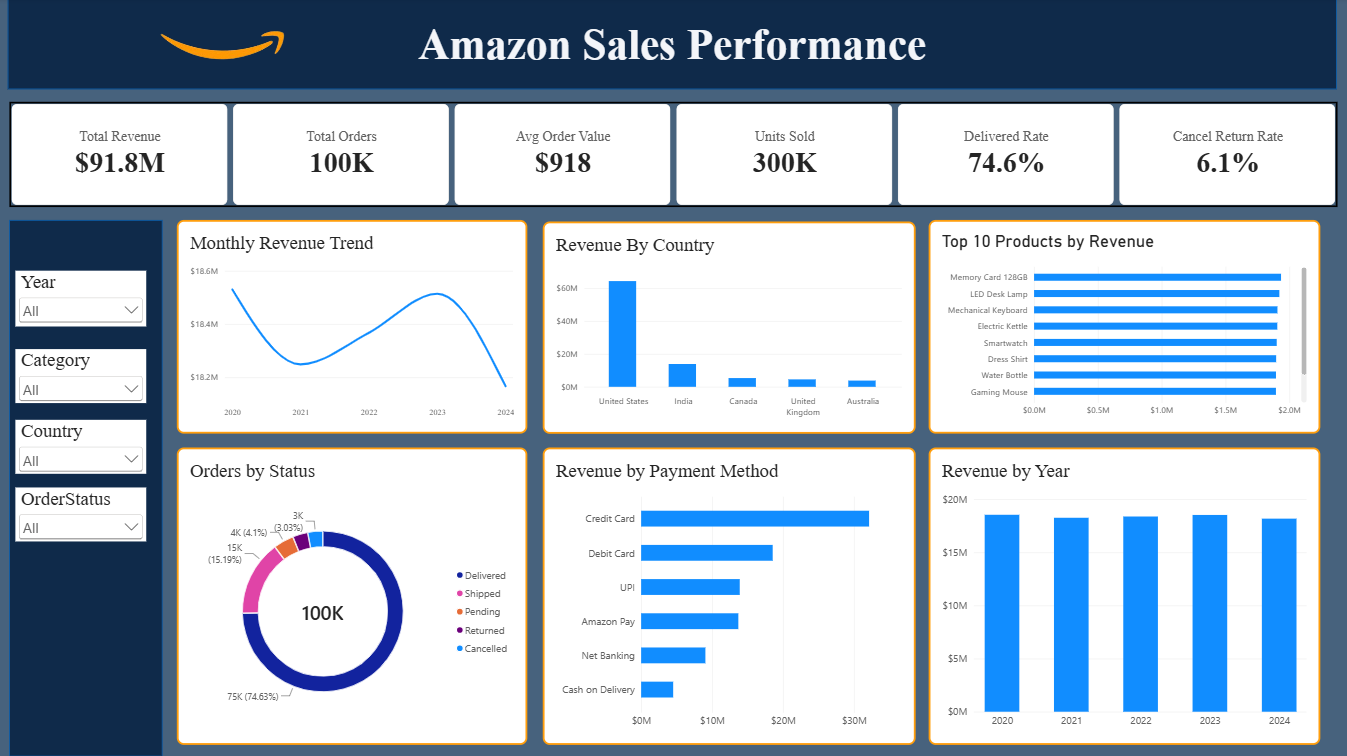

The dashboard page shown, as its layout file describes it:
{"tool":"powerbi","page":{"name":"Page 1","canvas":[1920,1080],"ordinal":0},"visuals":[{"type":"shape","box":[9.9,0,1889.3,131.2],"z":0},{"type":"textbox","title":"Amazon Sales Performance","box":[9.9,32.2,1889.3,64.4],"z":1},{"type":"cardVisual","fields":{"Data":["Amazon.Total Revenue","Amazon.Total Orders","Amazon.Avg Order Value","Amazon.Units Sold","Amazon.Delivered Rate","Amazon.Cancel Return Rate"]},"box":[12.4,148.6,1889,150],"z":2},{"type":"shape","box":[12.4,316.9,217.9,762.6],"z":3},{"type":"slicer","fields":{"Values":["Calendar.Year"]},"box":[22.3,388.7,185.7,79.2],"z":4},{"type":"slicer","fields":{"Values":["Amazon.Category"]},"box":[22.3,500.2,185.7,76.8],"z":5},{"type":"slicer","fields":{"Values":["Amazon.Country"]},"box":[22.3,601.7,185.7,76.8],"z":6},{"type":"slicer","fields":{"Values":["Amazon.OrderStatus"]},"box":[22.3,698.3,185.7,76.8],"z":7},{"type":"lineChart","title":"Monthly Revenue Trend","fields":{"Category":["Calendar.Year"],"Y":["Amazon.Total Revenue"]},"box":[250.4,316.1,498.5,303.9],"z":8},{"type":"donutChart","title":"Orders by Status","fields":{"Category":["Amazon.OrderStatus"],"Y":["Amazon.Total Orders"]},"box":[250.4,639.5,498.5,423.1],"z":9},{"type":"clusteredColumnChart","title":"Revenue By Country","fields":{"Category":["Amazon.Country"],"Y":["Amazon.Total Revenue"]},"box":[770.8,318.5,530.1,301.5],"z":10},{"type":"clusteredBarChart","title":"Revenue by Payment Method","fields":{"Category":["Amazon.PaymentMethod"],"Y":["Amazon.Total Revenue"]},"box":[770.8,639.5,530.1,423.1],"z":11},{"type":"clusteredBarChart","title":"Top 10 Products by Revenue","fields":{"Category":["Amazon.ProductName"],"Y":["Amazon.Total Revenue"]},"box":[1320.3,316.1,556.8,303.9],"z":12},{"type":"columnChart","title":"Revenue by Year","fields":{"Category":["Calendar.Year"],"Y":["Amazon.Total Revenue"]},"box":[1320.3,639.5,556.8,423.1],"z":13},{"type":"image","box":[99.7,0,430.4,111.8],"z":14}]}

Visuals, with their boxes in screenshot pixels (x1, y1, x2, y2), scaled from the page's 1920x1080 canvas onto the 1347x756 screenshot:
shape: box(7, 0, 1332, 92)
"Amazon Sales Performance" textbox: box(7, 23, 1332, 68)
cardVisual - Amazon.Total Revenue x Amazon.Total Orders: box(9, 104, 1334, 209)
shape: box(9, 222, 162, 755)
slicer - Calendar.Year: box(16, 272, 146, 328)
slicer - Amazon.Category: box(16, 350, 146, 404)
slicer - Amazon.Country: box(16, 421, 146, 475)
slicer - Amazon.OrderStatus: box(16, 489, 146, 543)
"Monthly Revenue Trend" lineChart: box(176, 221, 525, 434)
"Orders by Status" donutChart: box(176, 448, 525, 744)
"Revenue By Country" clusteredColumnChart: box(541, 223, 913, 434)
"Revenue by Payment Method" clusteredBarChart: box(541, 448, 913, 744)
"Top 10 Products by Revenue" clusteredBarChart: box(926, 221, 1317, 434)
"Revenue by Year" columnChart: box(926, 448, 1317, 744)
image: box(70, 0, 372, 78)
